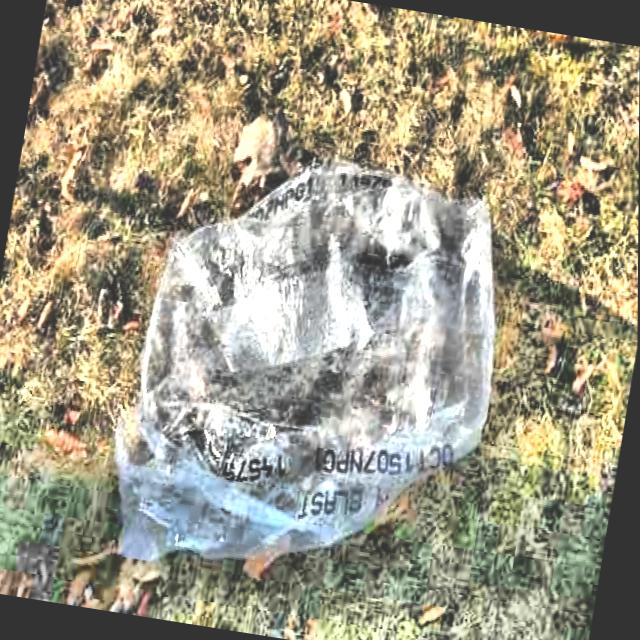Plastic: (90, 110, 552, 640)
